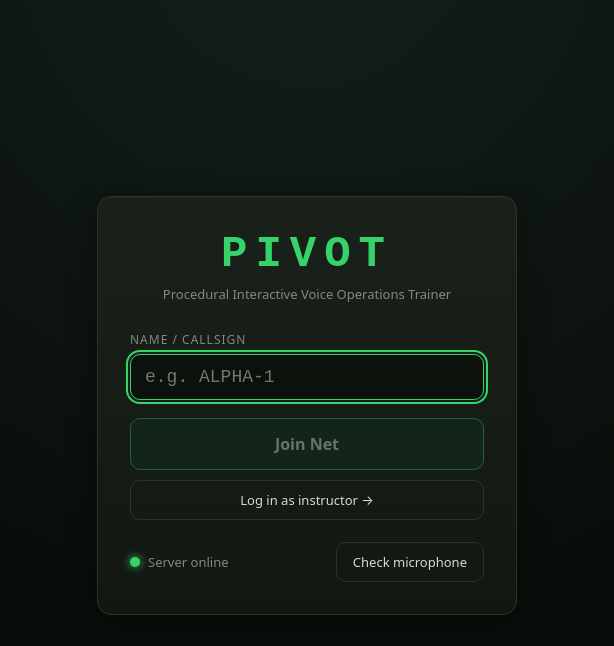
Test case: Login › disables the Join Net button and shows callsign error for invalid callsigns
Expected: the button "Join Net" is disabled, [130,418,484,470]
Type "A@!" into the field with placeholder "e.g. ALPHA-1" at (307, 376), box [130,354,484,400]
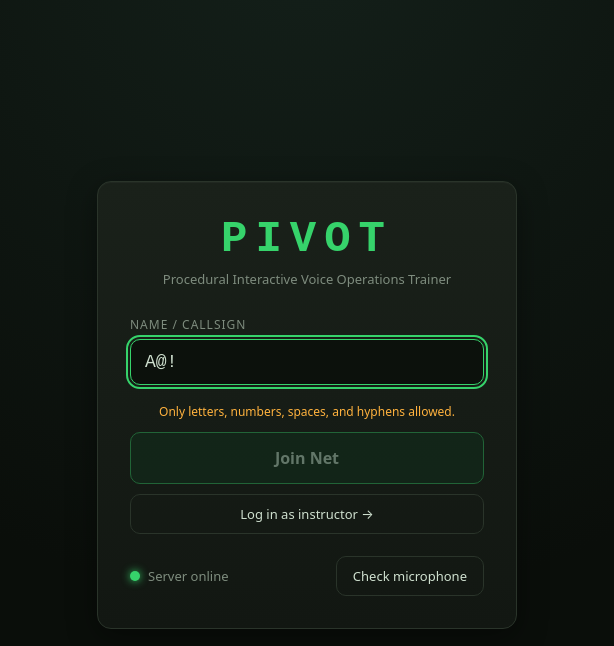
Expected: the button "Join Net" is disabled, [130,432,484,484]
Expected: the text "Only letters, numbers, spaces, and hyphens allowed." is shown, [159,403,455,420]
Clear the field with placeholder "e.g. ALPHA-1" at (307, 362), box [130,339,484,385]
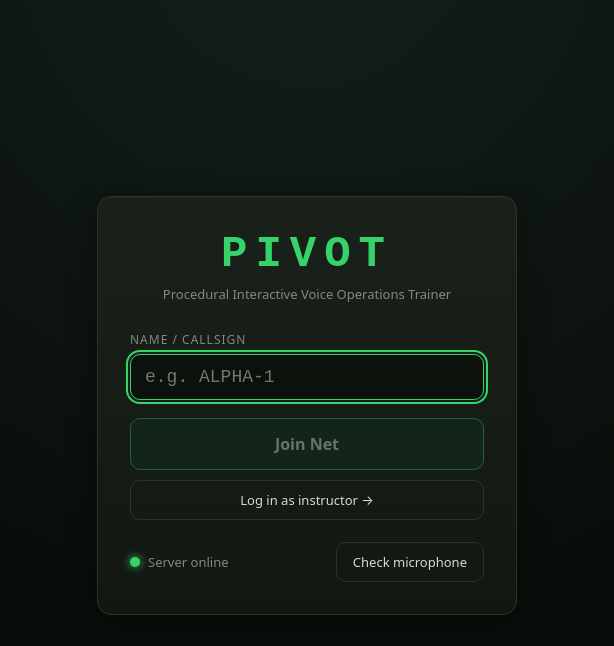
Type "ALPHA-1" into the field with placeholder "e.g. ALPHA-1" at (307, 376), box [130,354,484,400]
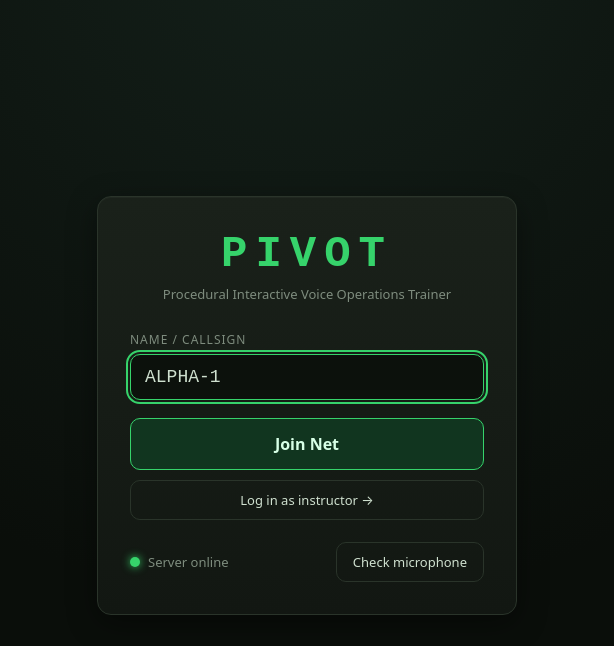
Expected: the text "Only letters, numbers, spaces, and hyphens allowed." is not shown
Expected: the button "Join Net" is enabled, [130,418,484,470]
